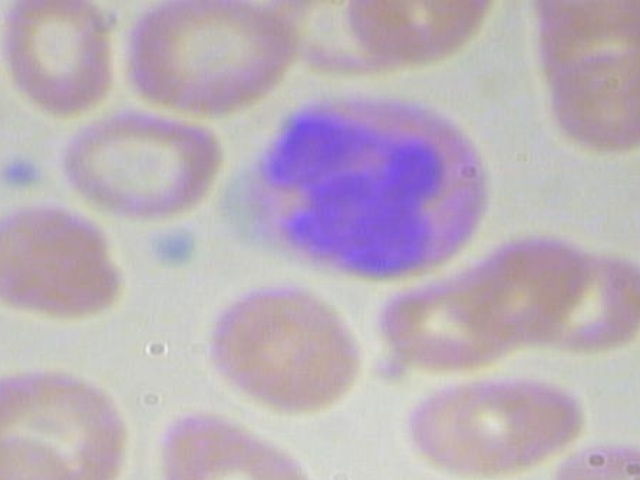Platelets: (138, 224, 216, 279), (0, 156, 42, 192)
RBC: (194, 277, 368, 422), (399, 363, 595, 478), (116, 0, 305, 119), (52, 110, 230, 224), (0, 193, 127, 327), (0, 0, 120, 116), (156, 403, 329, 480)
WBC: (232, 84, 516, 283)
